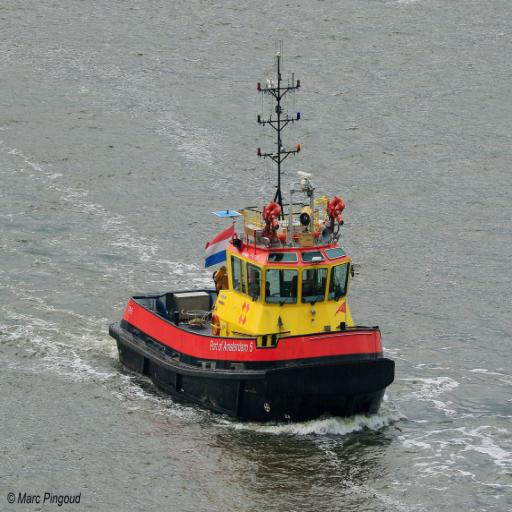tugboat: (105, 46, 401, 436)
